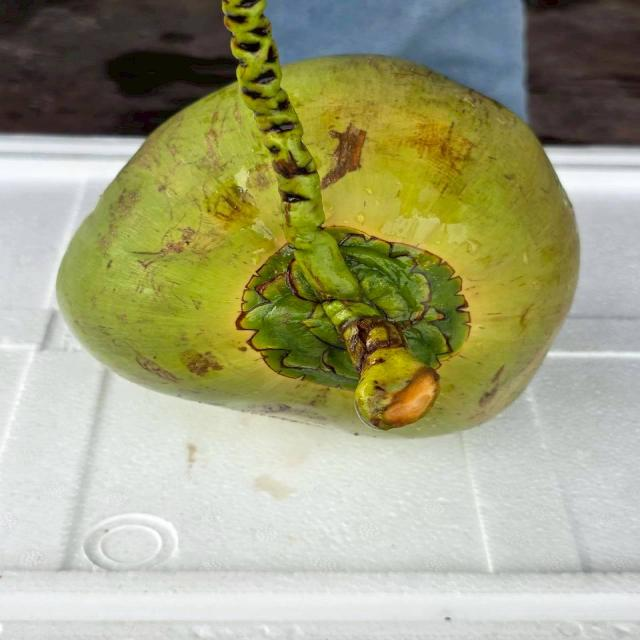coco_2.0: (212, 213, 502, 430)
